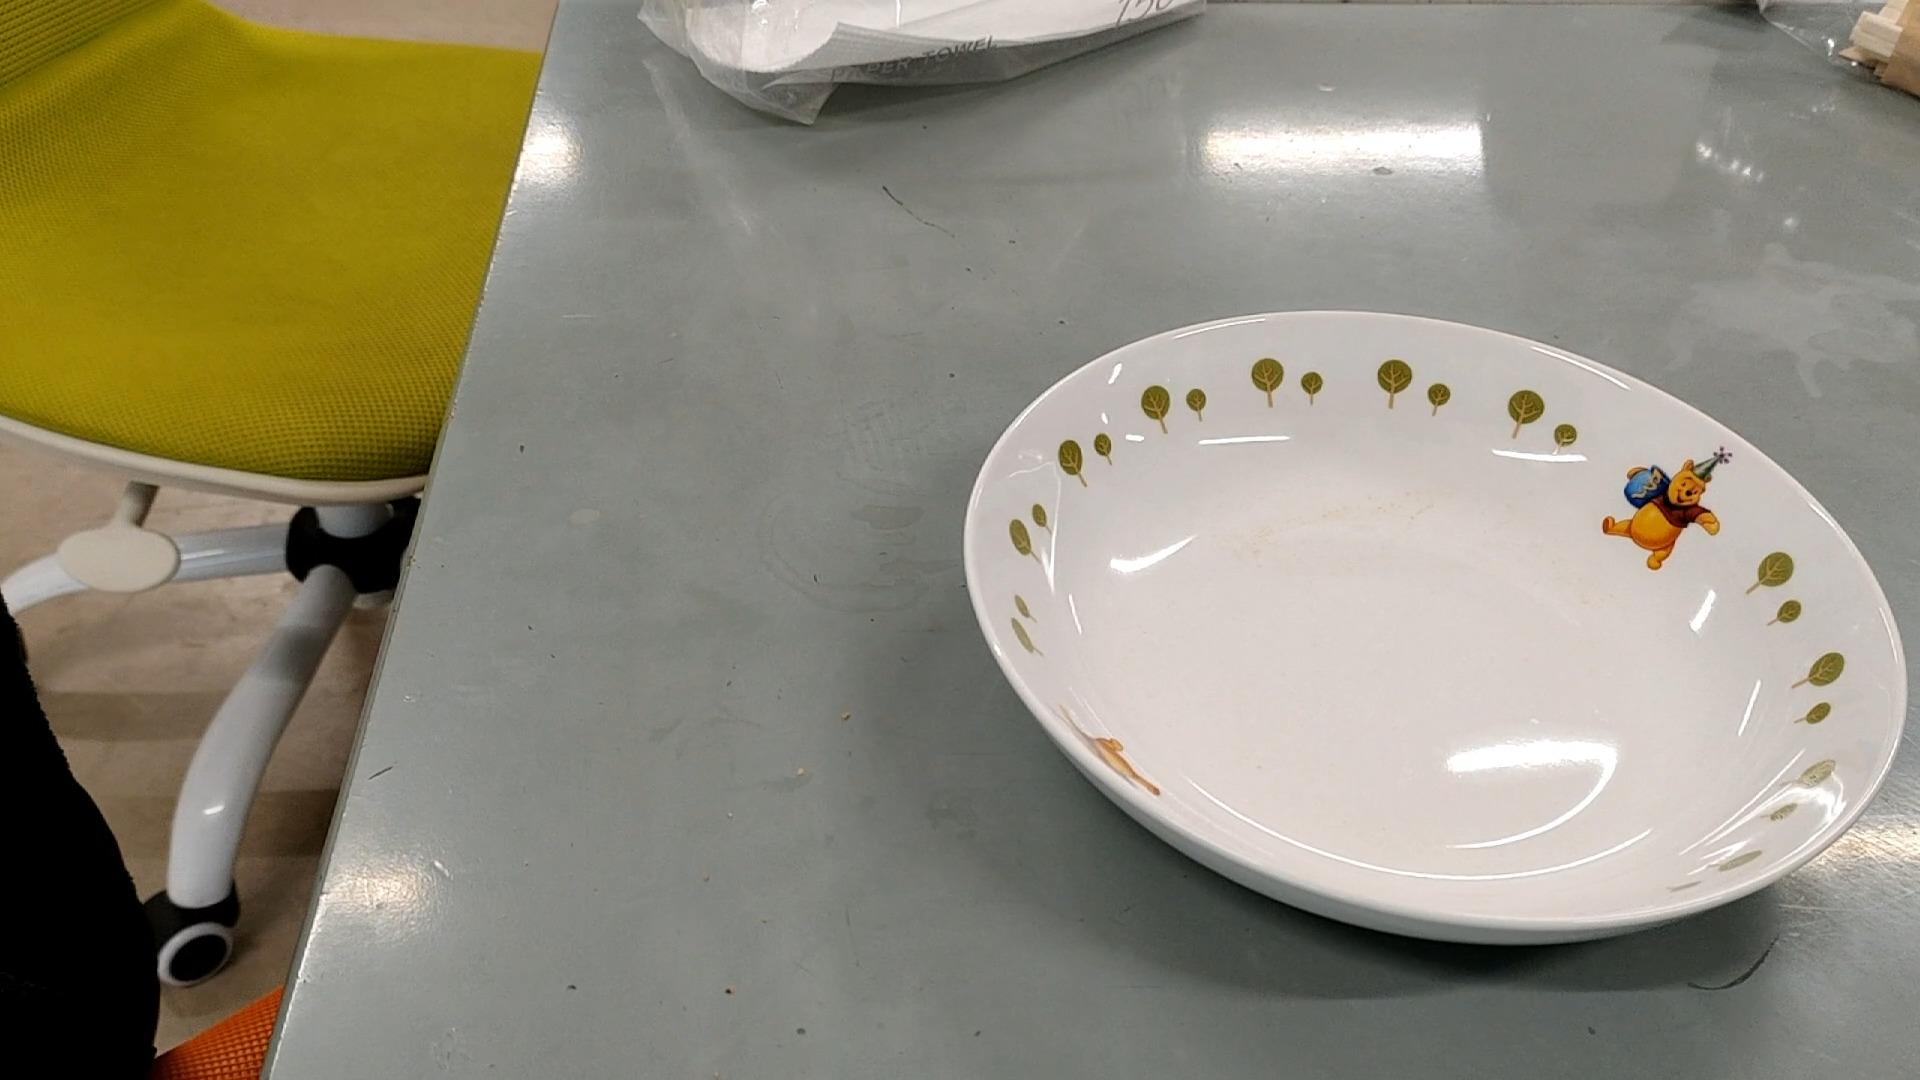plate: (968, 310, 1907, 945)
